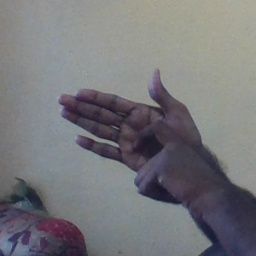R: (56, 68, 197, 203)
